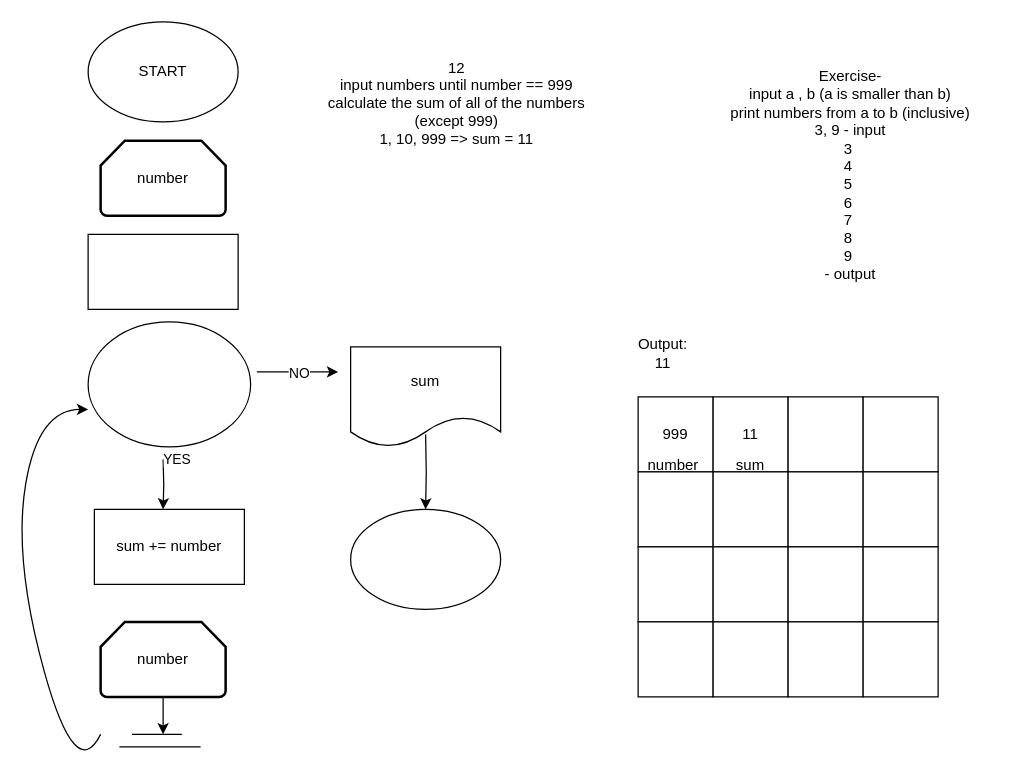
The diagram is 1023 pixels wide and 773 high, and some of its shapes have lost their labels. Each missing label, with the box of its shape:
END: (349, 508, 501, 609)
number <> 999 number != 999 NOT number == 999: (87, 321, 251, 447)
sum = 0: (87, 233, 238, 309)
